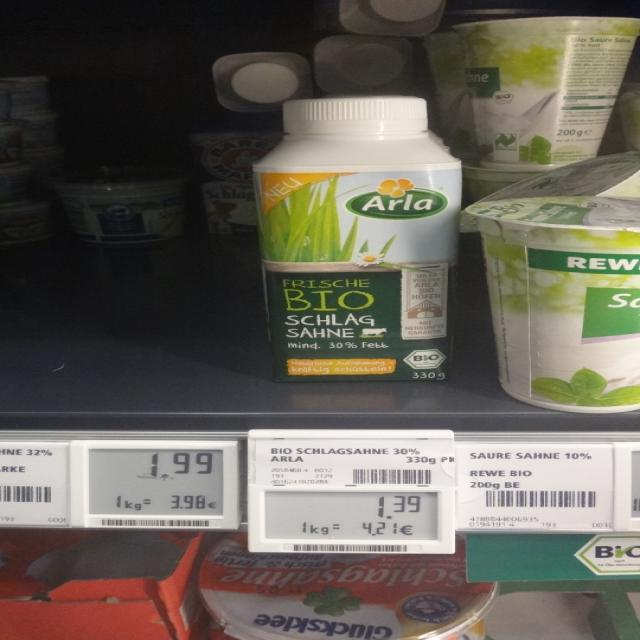Cream: (254, 95, 461, 382), (467, 197, 640, 414), (198, 534, 498, 640), (457, 16, 640, 169)
